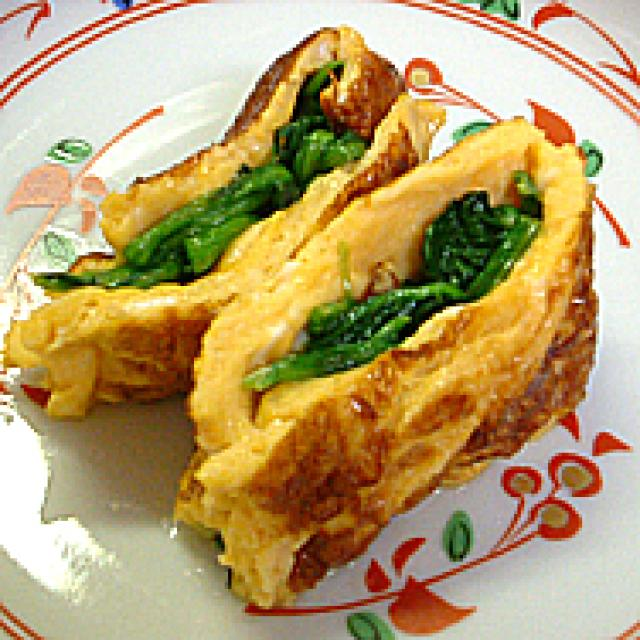鸡蛋料理: (0, 17, 603, 613)
